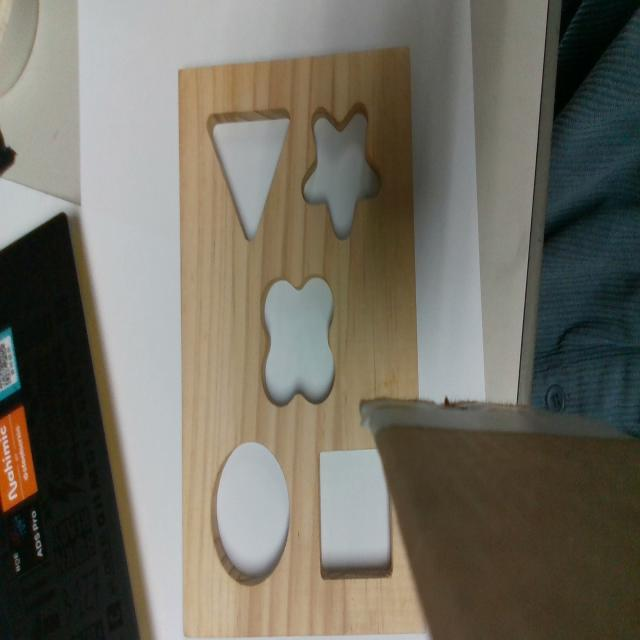circle: (212, 445, 290, 586)
flower: (304, 103, 381, 238), (261, 275, 337, 409)
square: (318, 450, 393, 579)
star: (301, 102, 379, 240)
triangle: (207, 105, 292, 239)
